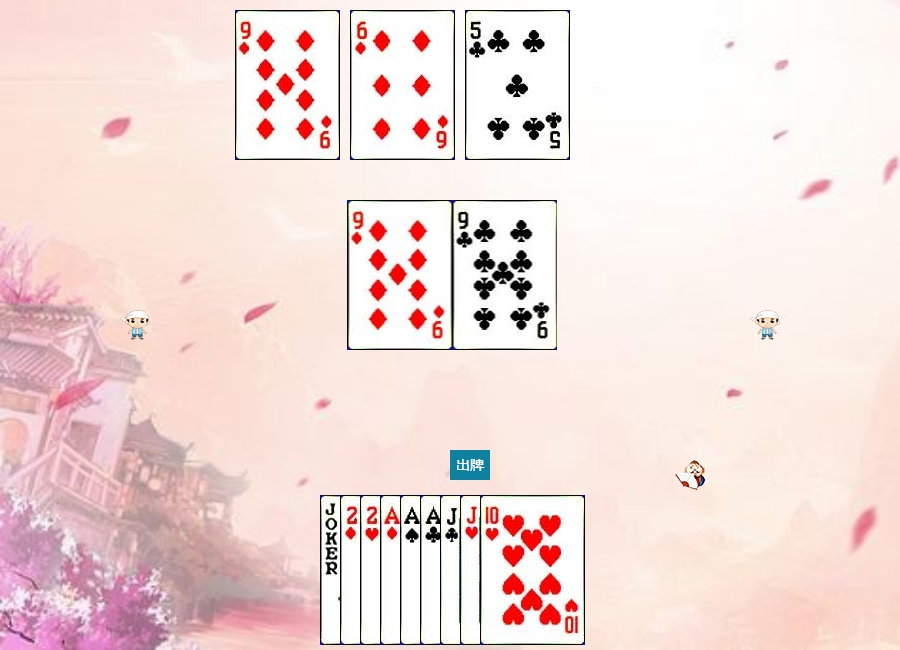10~3: (480, 495, 585, 645)
11~2: (440, 495, 545, 645)
11~3: (460, 495, 565, 645)
14~1: (380, 495, 485, 645)
14~2: (420, 495, 525, 645)
14~4: (400, 495, 505, 645)
15~1: (340, 495, 445, 645)
15~3: (360, 495, 465, 645)
17~3: (320, 495, 425, 645)
5~2: (465, 10, 570, 160)
6~1: (350, 10, 455, 160)
9~1: (235, 10, 340, 160), (348, 200, 453, 350)
9~2: (453, 200, 558, 350)
